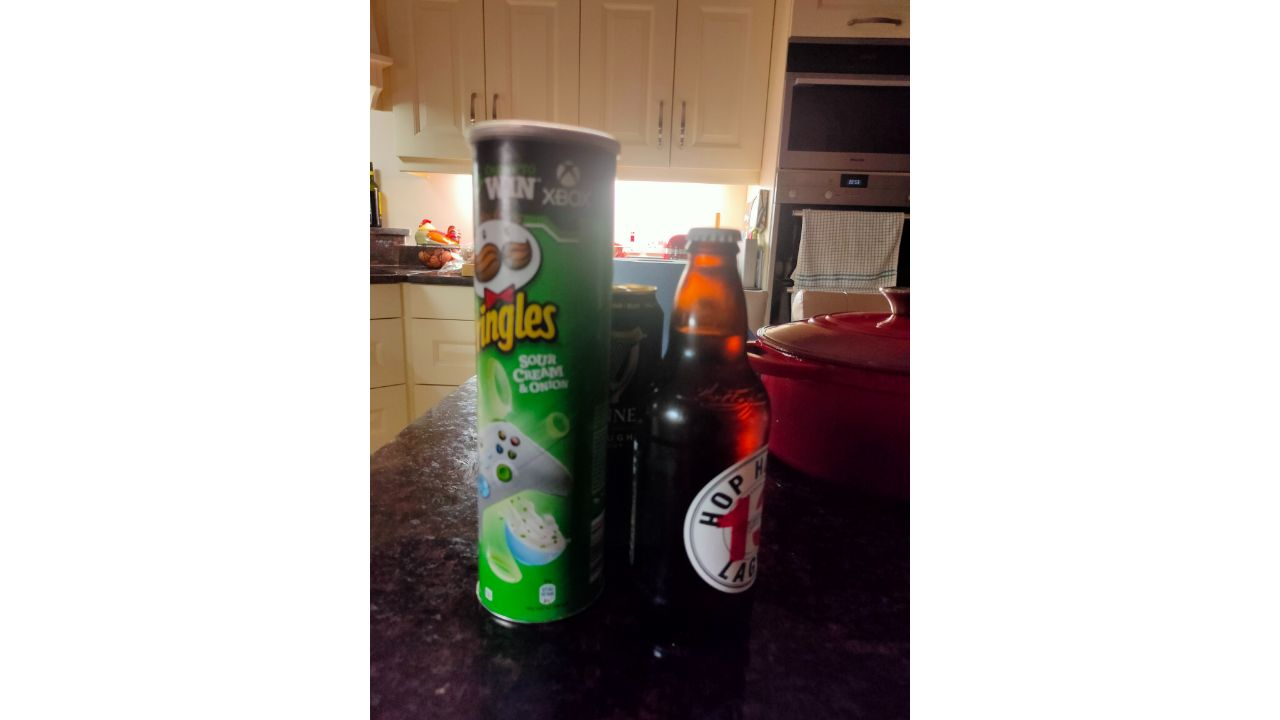Can: (602, 281, 668, 549)
